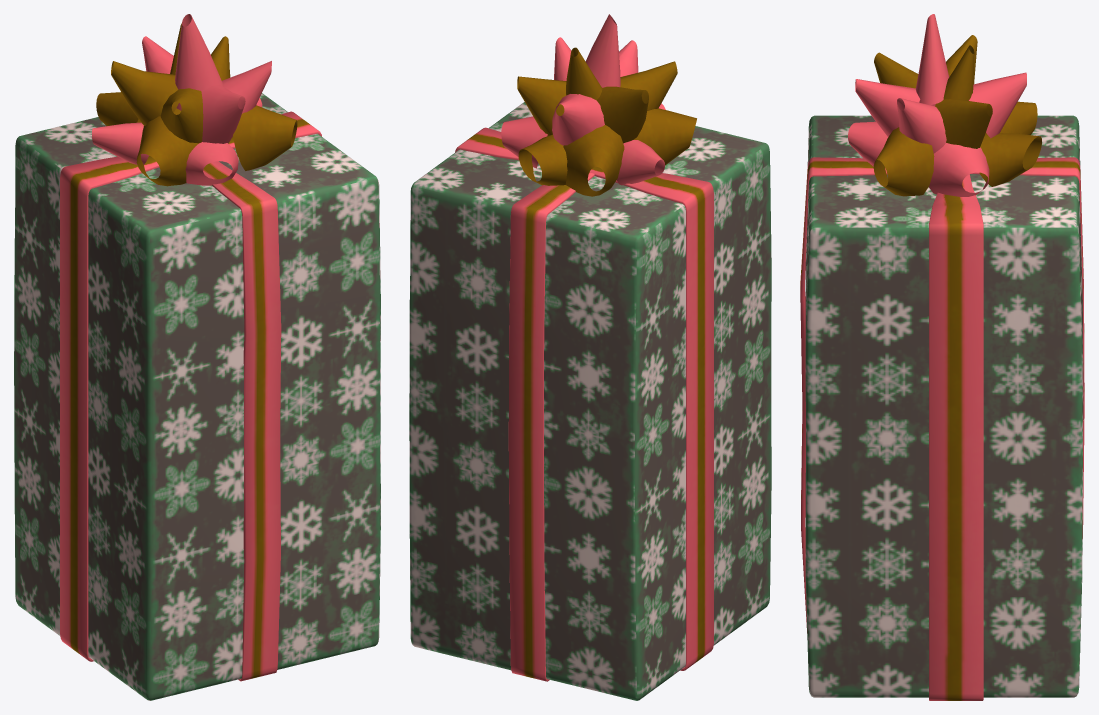
File: Gift0301.gltf
The picture shows the model from 3 angles, left to right: view 1: azimuth 30°, elevation 25°; view 2: azimuth 150°, elevation 25°; view 3: azimuth 270°, elevation 25°; orthographic projection.
Parts seen in each view (by area): view 1: Present; view 2: Present; view 3: Present.
Boxes of the visible parts, x1=… form: Present: x1=14, y1=14, x2=380, y2=700; Present: x1=409, y1=14, x2=771, y2=700; Present: x1=800, y1=14, x2=1084, y2=700.
Bounding box in the file's own units: 0.0676 × 0.1705 × 0.0703.
1 material, 1 textured.
